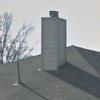Chimney: (31, 5, 73, 74)
